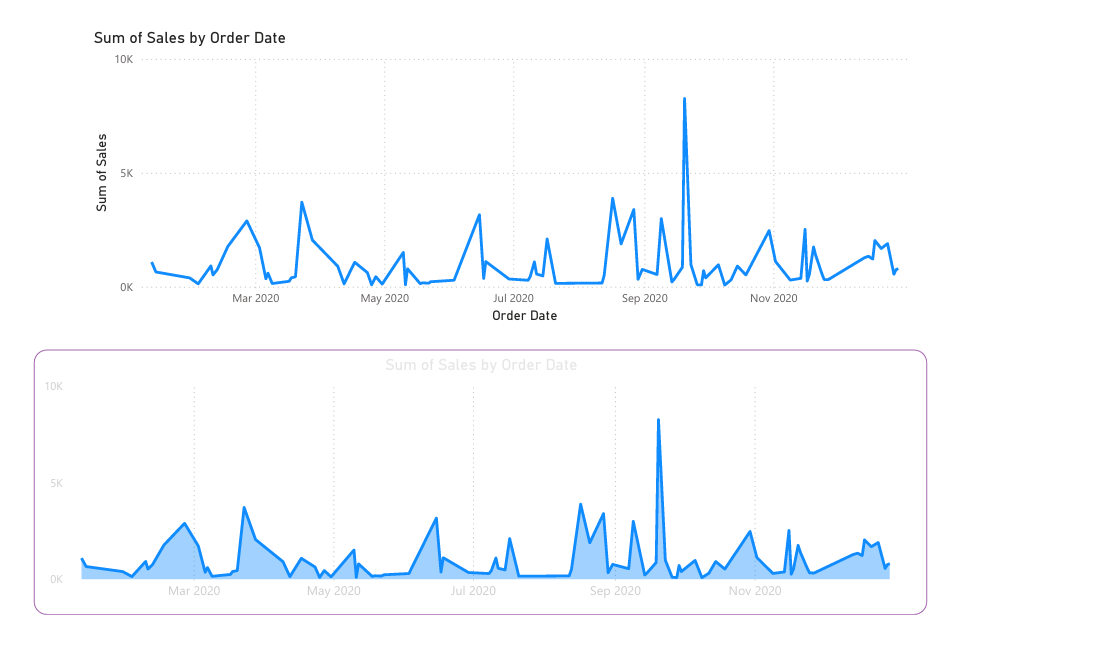

What the dashboard file says about the page in this screenshot:
{"tool":"powerbi","page":{"name":"Page 2","canvas":[1280,720],"ordinal":1},"visuals":[{"type":"lineChart","fields":{"Y":["Sum(SuperStore_Sales.Sales)"],"Category":["SuperStore_Sales.Order Date"]},"box":[119.4,39.8,893.3,319.7],"z":0},{"type":"lineChart","fields":{"Y":["Sum(SuperStore_Sales.Sales)"],"Category":["SuperStore_Sales.Order Date"]},"box":[60.4,382.8,952.3,282.7],"z":1000}]}

Visuals, with their boxes on the page's 1280x720 design canvas (x1, y1, x2, y2). These are canvas units, not pixel positions in the 1111x653 screenshot, which may show the page scaled, cropped or inside an application window:
lineChart - Sum(SuperStore_Sales.Sales) x SuperStore_Sales.Order Date: (left=119, top=40, right=1013, bottom=360)
lineChart - Sum(SuperStore_Sales.Sales) x SuperStore_Sales.Order Date: (left=60, top=383, right=1013, bottom=666)
